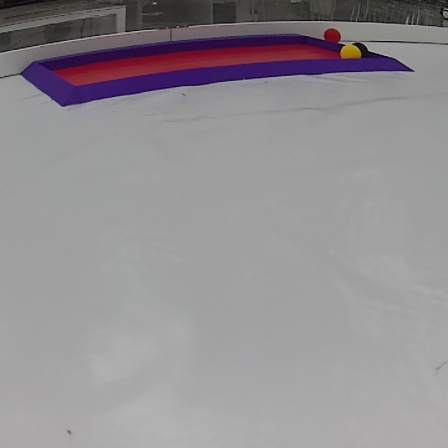black: (358, 40, 370, 55)
red: (321, 28, 342, 39)
red_aim: (8, 30, 420, 109)
yellow: (338, 44, 363, 61)
